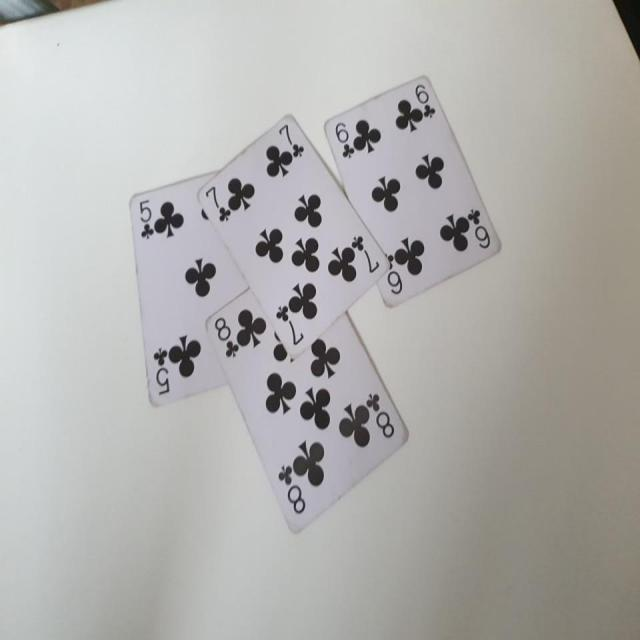5 Trefoils: (128, 171, 250, 409)
6 Trefoils: (324, 74, 505, 309)
7 Trefoils: (196, 109, 390, 360)
8 Trefoils: (207, 290, 410, 536)
